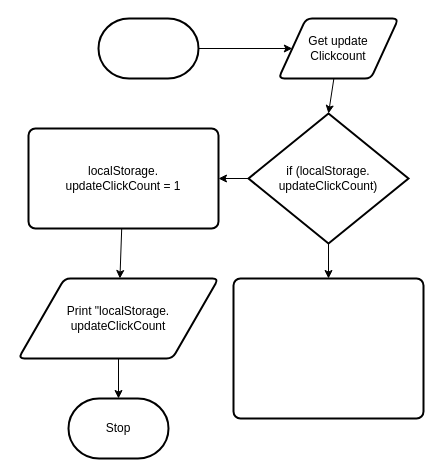
Some shapes in this 441 by 476 pixel diagram are drawn without their labels. Here are the shapes that lost their labels. From the top down, the box of each, then its label:
(97, 17, 199, 79): Start
(232, 277, 424, 419): localStorage. updateClickCount= Number(localStorage. updateClickCount). + 1
